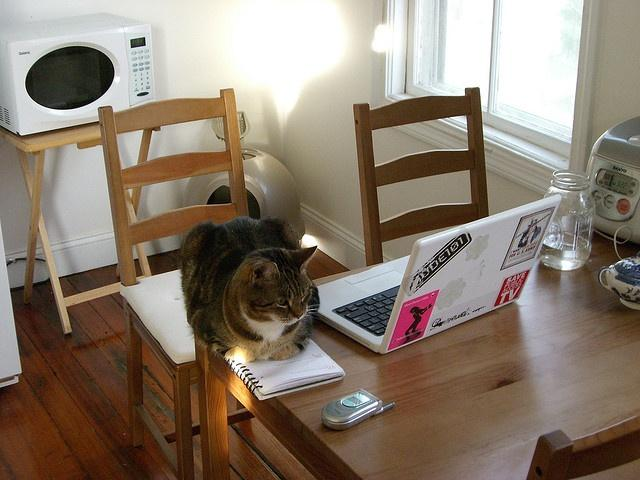Kursi: (96, 87, 258, 479)
